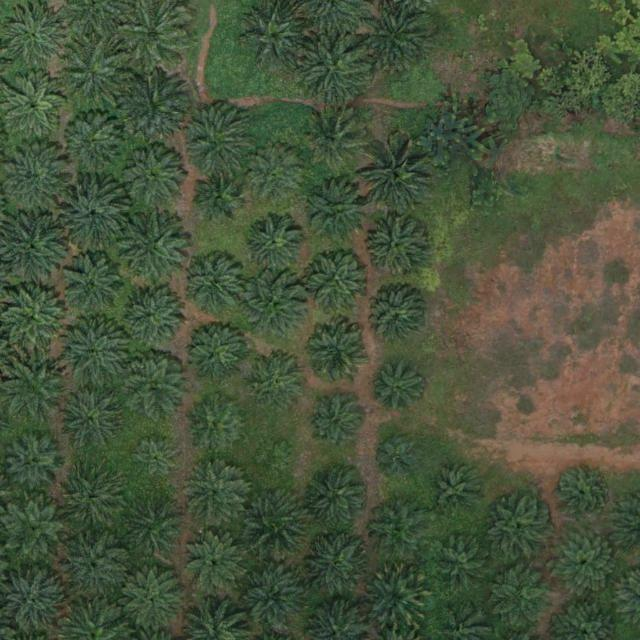Kelapa_Sawit: (115, 0, 196, 68), (56, 35, 126, 106), (118, 68, 188, 139), (116, 140, 186, 211), (183, 100, 253, 171), (300, 245, 370, 316), (237, 269, 307, 340), (549, 528, 619, 599), (361, 142, 431, 212), (2, 140, 72, 210), (56, 173, 126, 243), (118, 209, 188, 279), (239, 0, 309, 70), (299, 34, 369, 104), (302, 178, 372, 248), (360, 7, 430, 77), (360, 562, 430, 632), (300, 463, 370, 533), (300, 530, 370, 600), (238, 486, 308, 556), (237, 562, 307, 632), (60, 318, 130, 388), (57, 531, 127, 601), (0, 208, 64, 281), (61, 453, 126, 523), (0, 282, 64, 349), (0, 0, 62, 64), (0, 351, 62, 415), (0, 564, 62, 628), (302, 106, 364, 169), (1, 72, 63, 135), (60, 254, 122, 317), (364, 213, 426, 276), (365, 498, 427, 561), (247, 350, 309, 413), (184, 318, 246, 381), (186, 393, 248, 456), (181, 460, 243, 523), (181, 529, 243, 592), (121, 284, 183, 347), (122, 354, 184, 417), (123, 495, 185, 558), (122, 568, 184, 631), (59, 384, 121, 447), (3, 433, 65, 496), (3, 497, 65, 560), (61, 107, 123, 169), (184, 250, 246, 312), (243, 142, 305, 204), (241, 212, 303, 274), (365, 284, 427, 346), (305, 317, 367, 379), (486, 497, 548, 559), (494, 566, 556, 628), (371, 358, 426, 413), (428, 463, 483, 518), (438, 538, 492, 593), (306, 389, 360, 444), (553, 465, 607, 520), (56, 597, 124, 640), (179, 595, 245, 639), (304, 597, 365, 640), (552, 599, 614, 640), (434, 599, 492, 640), (194, 172, 240, 219), (60, 0, 119, 36), (130, 436, 176, 482), (377, 437, 416, 476), (254, 436, 292, 475)
